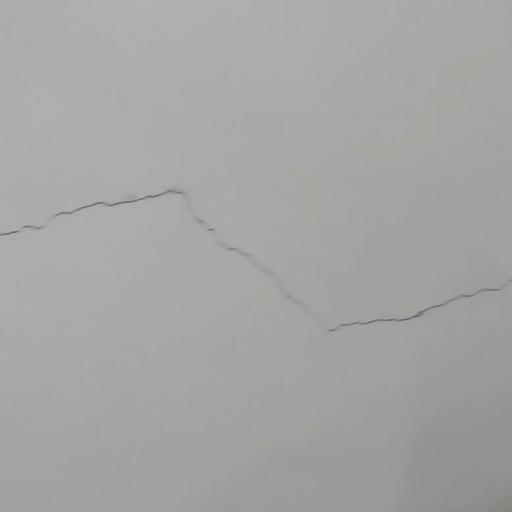minor_crack: (0, 182, 512, 339)
